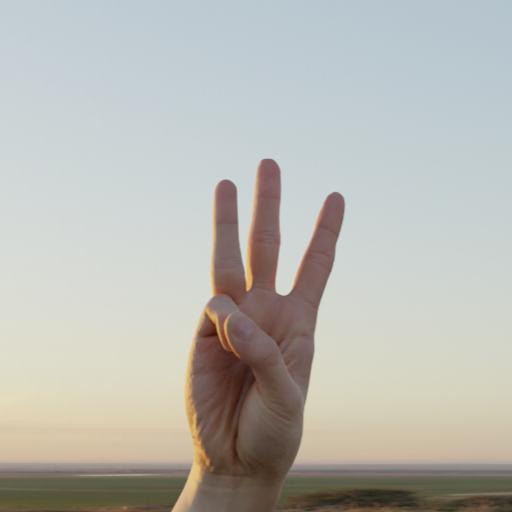W: (180, 148, 350, 462)
